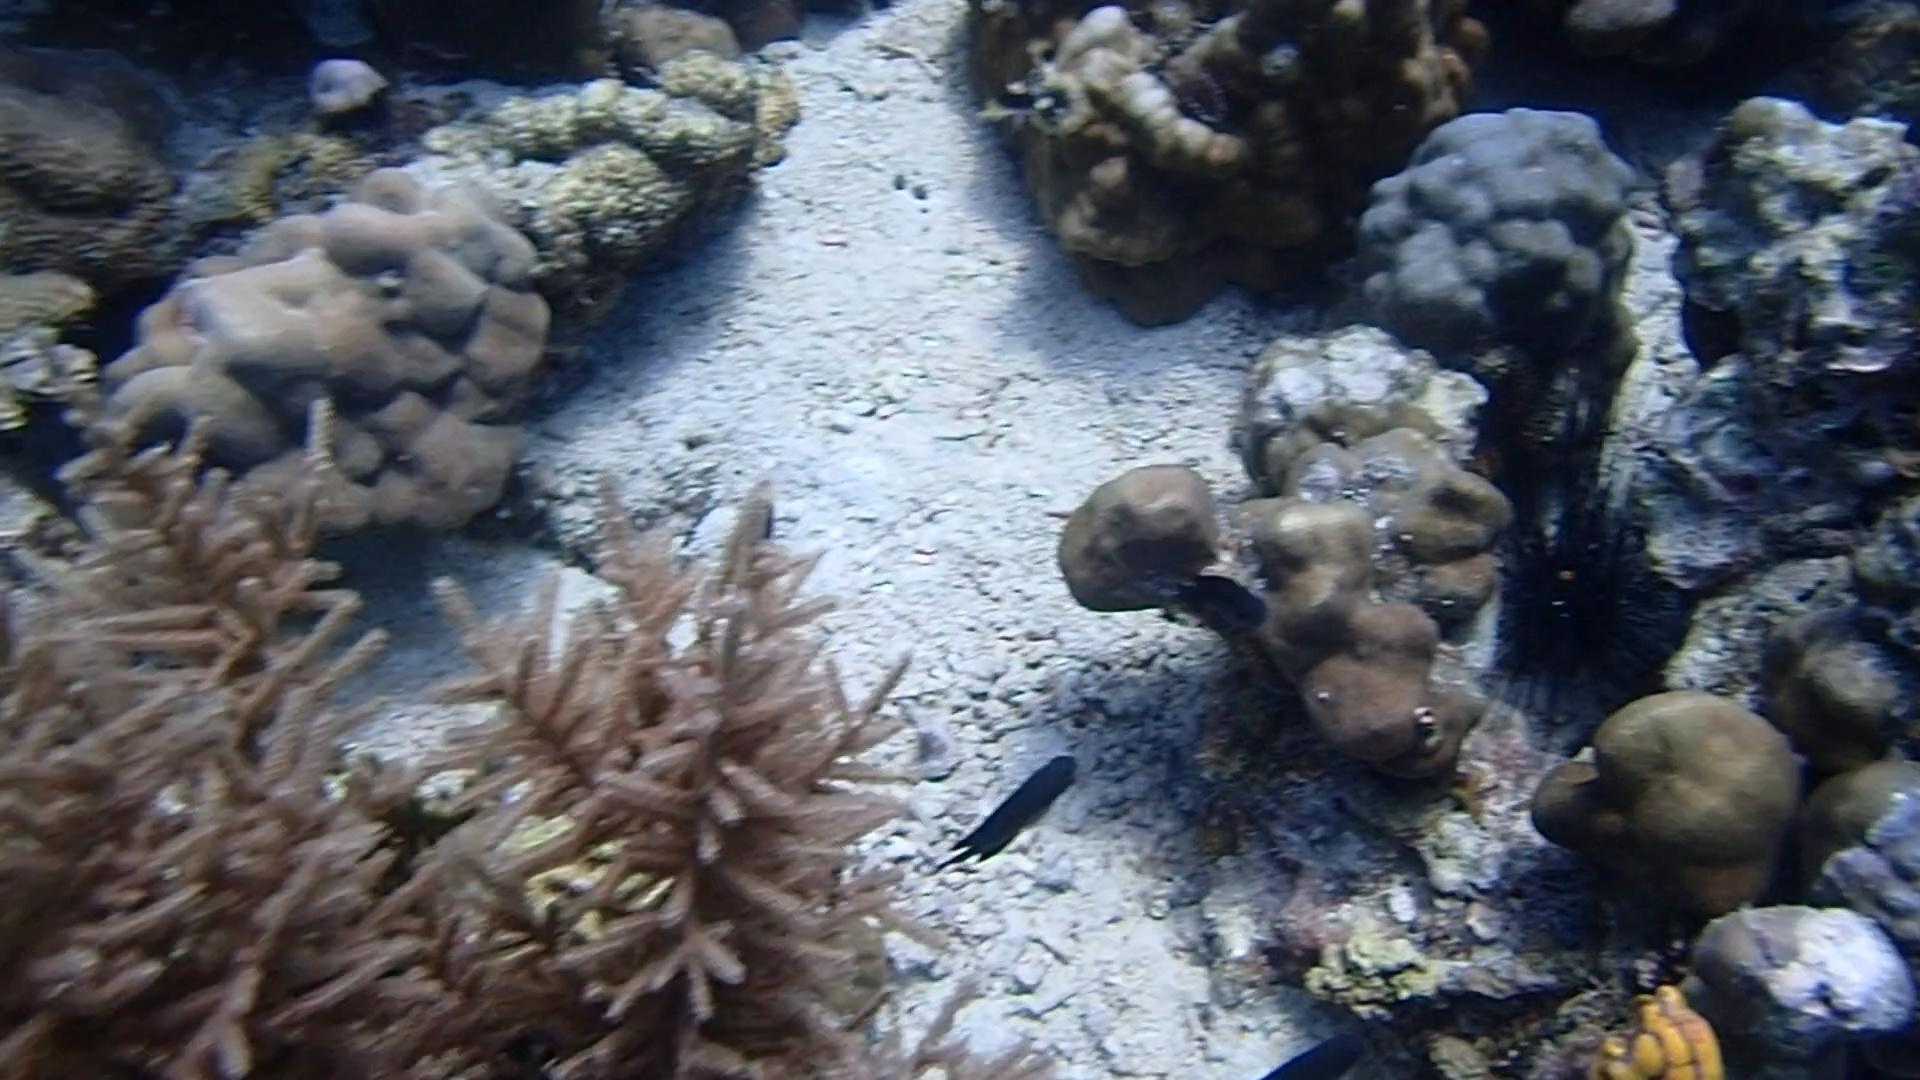Dark Fish: (948, 750, 1079, 868), (1159, 562, 1273, 642), (1250, 1034, 1371, 1080)
Yellow Tail: (973, 67, 1054, 128)
